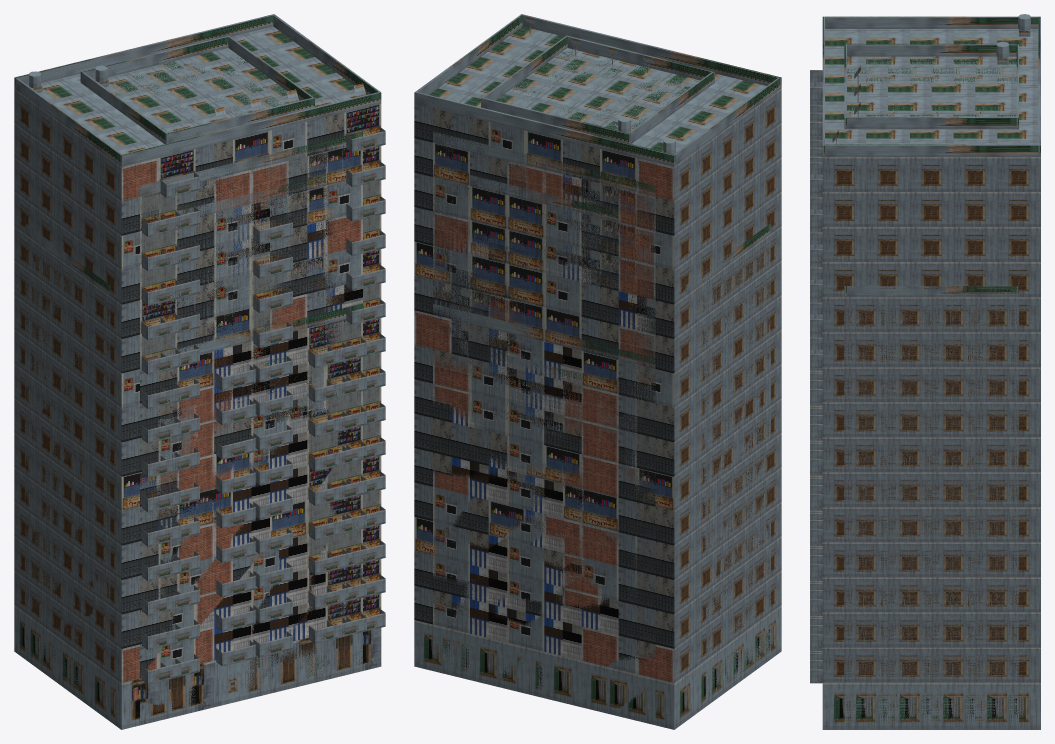
3 renders of one model, left to right at view 1: azimuth 30°, elevation 25°; view 2: azimuth 150°, elevation 25°; view 3: azimuth 270°, elevation 25°, orthographic.
Parts seen in each view (by area): view 1: Plaster_7x5_f15_v1, Plaster_6x5_f9_v0, Plaster_5x5_f9_v1, Plaster_7x4_f11_v1, Plaster_6x5_f14_v1, Plaster_4x5_f13_v0, Plaster_4x4_f15_v1, Plaster_4x5_f9_v0; view 2: Plaster_7x5_f15_v1, Plaster_6x5_f9_v0, Plaster_5x5_f9_v1, Plaster_7x4_f11_v1, Plaster_4x5_f13_v0, Plaster_6x5_f14_v1, Plaster_4x4_f15_v1, Plaster_2x5_f8_v0; view 3: Plaster_7x5_f15_v1, Plaster_7x4_f11_v1, Plaster_4x4_f15_v1, Plaster_6x5_f9_v0, Plaster_6x5_f14_v1.
Part boxes in pixels (<box>): Plaster_7x5_f15_v1: <box>14,14,385,729</box>; Plaster_6x5_f9_v0: <box>140,303,366,725</box>; Plaster_5x5_f9_v1: <box>158,320,348,717</box>; Plaster_7x4_f11_v1: <box>25,223,110,721</box>; Plaster_6x5_f14_v1: <box>140,131,362,684</box>; Plaster_4x5_f13_v0: <box>177,175,325,657</box>; Plaster_4x4_f15_v1: <box>80,35,314,143</box>; Plaster_4x5_f9_v0: <box>201,321,296,666</box>; Plaster_7x5_f15_v1: <box>414,14,781,729</box>; Plaster_6x5_f9_v0: <box>433,303,655,725</box>; Plaster_5x5_f9_v1: <box>451,310,637,709</box>; Plaster_7x4_f11_v1: <box>685,223,770,706</box>; Plaster_4x5_f13_v0: <box>470,175,618,359</box>; Plaster_6x5_f14_v1: <box>433,131,655,368</box>; Plaster_4x4_f15_v1: <box>481,35,714,143</box>; Plaster_2x5_f8_v0: <box>507,356,581,384</box>; Plaster_7x5_f15_v1: <box>810,14,1040,729</box>; Plaster_7x4_f11_v1: <box>844,286,1018,729</box>; Plaster_4x4_f15_v1: <box>844,41,1018,129</box>; Plaster_6x5_f9_v0: <box>810,368,822,669</box>; Plaster_6x5_f14_v1: <box>810,100,822,156</box>.
Bounding box in the file's own units: 24.5 × 52.25 × 18.5.
Materials: 1 (1 with a texture image).
